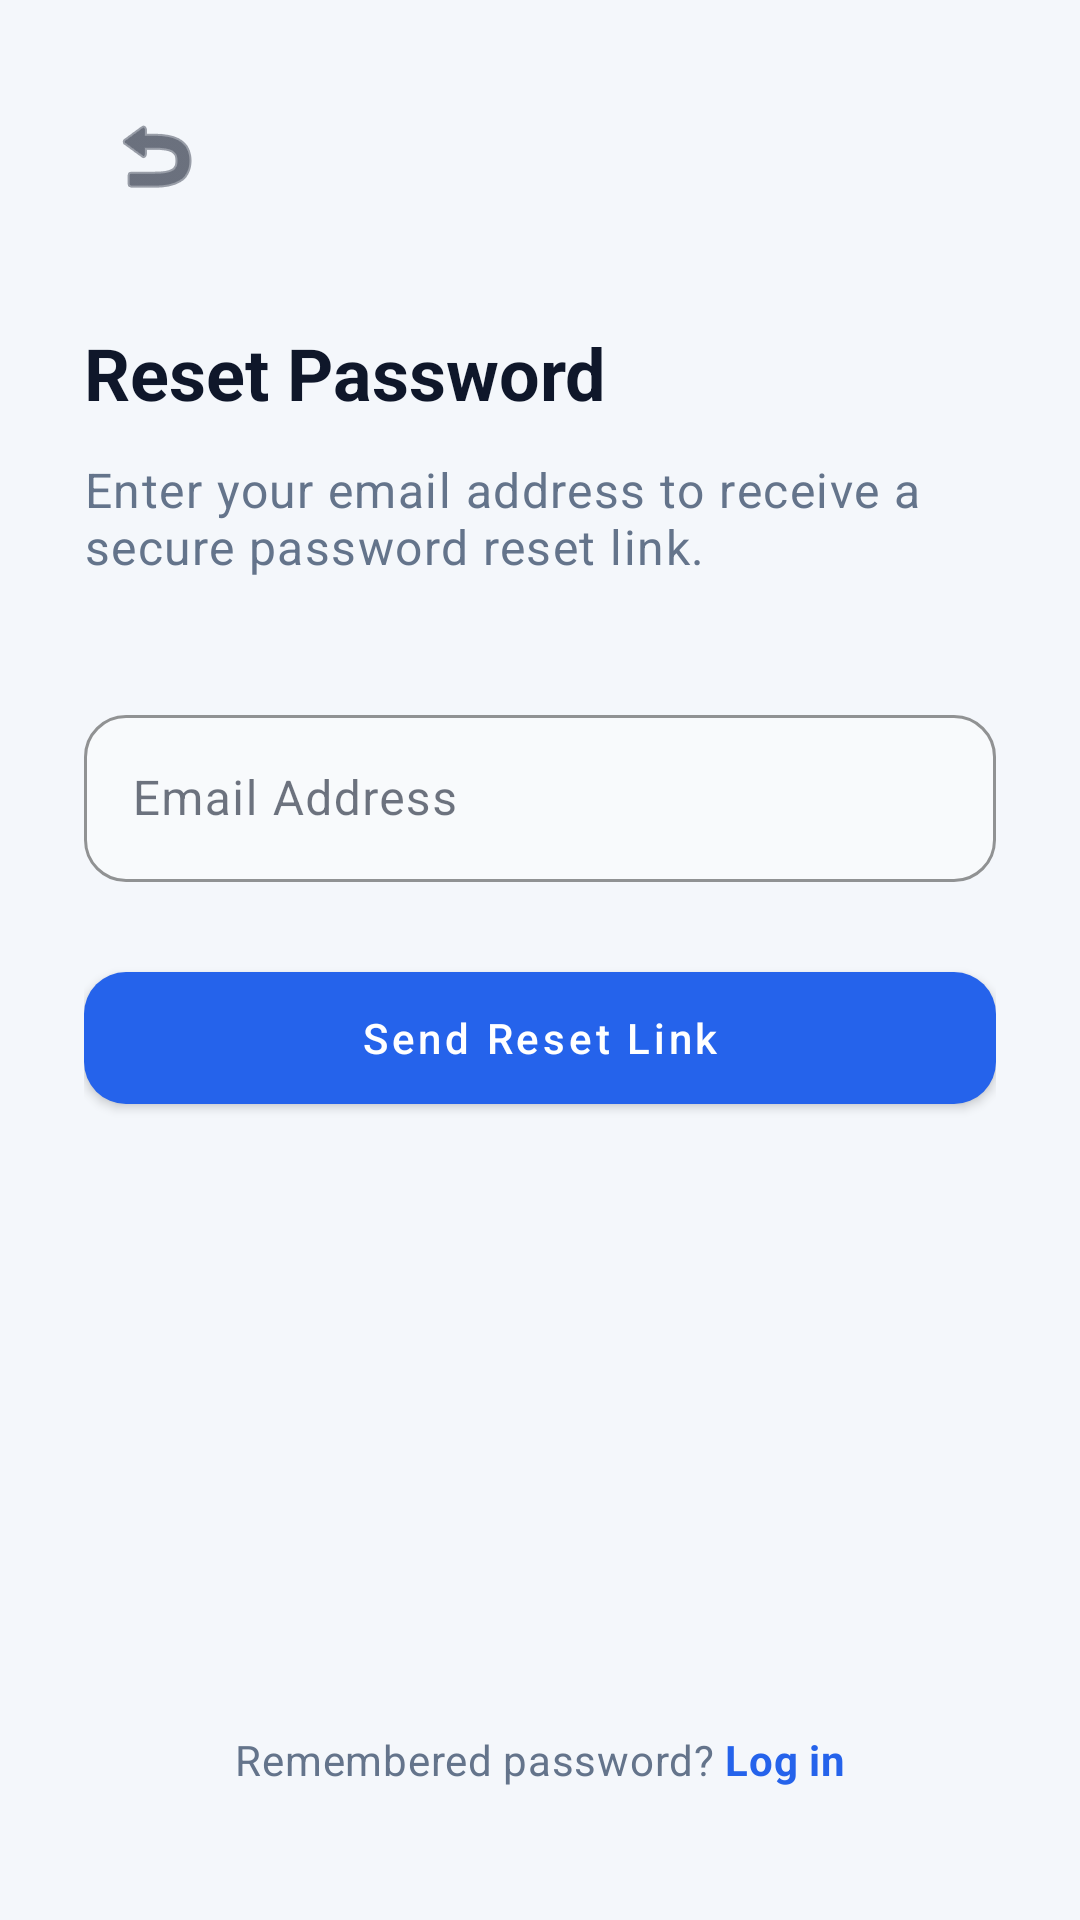

Icon click points for this 1080*1920 phone screenshot, format (x,y):
Back: (157,156)
